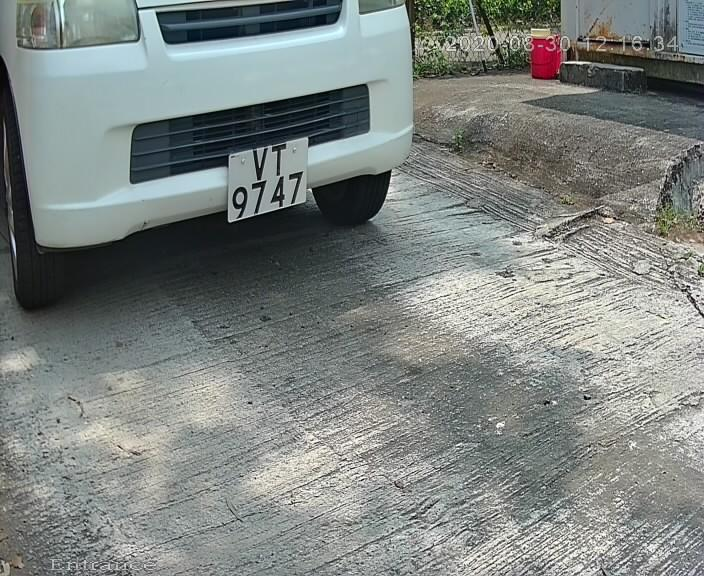Car: (23, 6, 434, 299)
License Plate: (214, 137, 324, 229)
